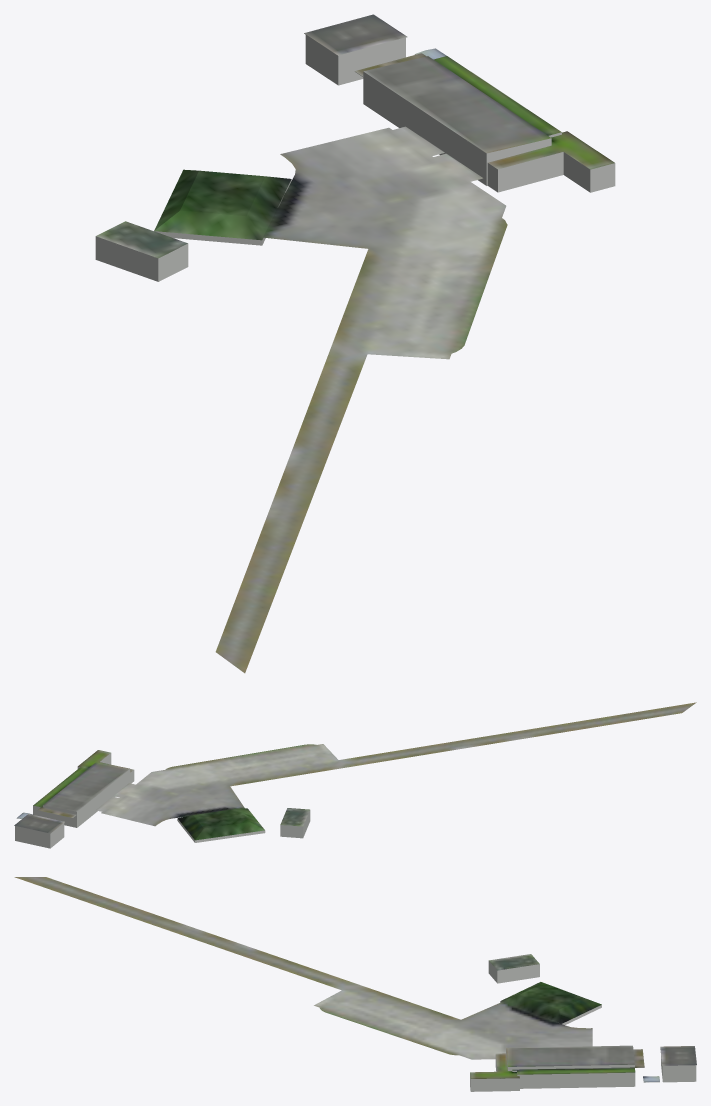
The model's file is LSMP_2_0.glb.
3 renders of one model, top to bottom at view 1: azimuth 30°, elevation 25°; view 2: azimuth 150°, elevation 25°; view 3: azimuth 270°, elevation 25°, orthographic. The views are drawn at different scales.
Parts seen in each view (by area): view 1: pavement_LSMP_pavement_5122_2376, building_1bcd9d1b5daeb1b5, building_d7261c6c2e96c95a, building_d14043f83cfe9810, building_b9ff373eedce2359, building_a13197ea3d685884, building_aaab69b4be9cde91; view 2: pavement_LSMP_pavement_5122_2376, building_1bcd9d1b5daeb1b5, building_d7261c6c2e96c95a, building_d14043f83cfe9810, building_a13197ea3d685884, building_b9ff373eedce2359, building_aaab69b4be9cde91; view 3: pavement_LSMP_pavement_5122_2376, building_1bcd9d1b5daeb1b5, building_d14043f83cfe9810, building_d7261c6c2e96c95a, building_b9ff373eedce2359, building_aaab69b4be9cde91, building_a13197ea3d685884.
Part boxes in pixels (x1,y1,x2,y2): pavement_LSMP_pavement_5122_2376: (215, 126, 507, 673); building_1bcd9d1b5daeb1b5: (354, 53, 615, 169); building_d7261c6c2e96c95a: (95, 169, 291, 258); building_d14043f83cfe9810: (363, 72, 615, 192); building_b9ff373eedce2359: (95, 180, 291, 281); building_a13197ea3d685884: (305, 35, 405, 85); building_aaab69b4be9cde91: (304, 14, 446, 59); pavement_LSMP_pavement_5122_2376: (96, 702, 696, 826); building_1bcd9d1b5daeb1b5: (33, 750, 133, 818); building_d7261c6c2e96c95a: (177, 808, 309, 840); building_d14043f83cfe9810: (33, 753, 134, 827); building_a13197ea3d685884: (15, 823, 64, 848); building_b9ff373eedce2359: (177, 810, 310, 842); building_aaab69b4be9cde91: (14, 812, 64, 833); pavement_LSMP_pavement_5122_2376: (14, 877, 592, 1059); building_1bcd9d1b5daeb1b5: (470, 1045, 644, 1079); building_d14043f83cfe9810: (470, 1049, 635, 1091); building_d7261c6c2e96c95a: (488, 954, 601, 1023); building_b9ff373eedce2359: (488, 961, 601, 1024); building_aaab69b4be9cde91: (643, 1046, 696, 1082); building_a13197ea3d685884: (661, 1056, 696, 1082).
Bounding box in the file's own units: 365 × 14.7 × 499.
Materials: 3 (2 with a texture image).
